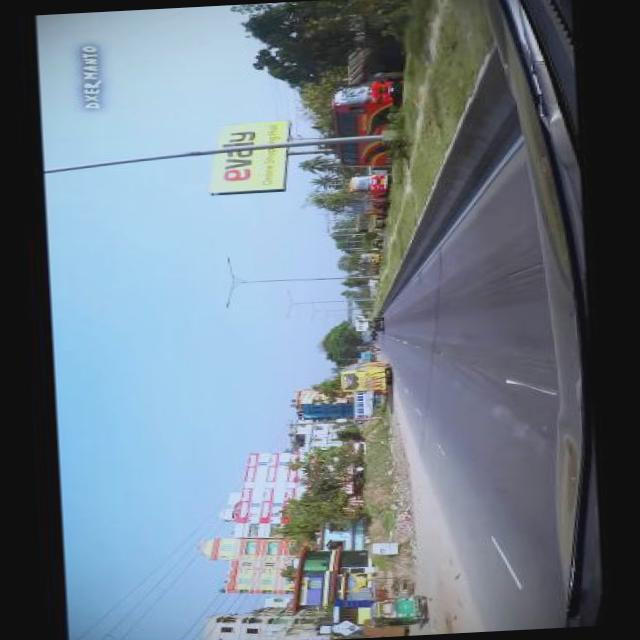bus: (328, 81, 398, 169), (348, 174, 389, 217), (336, 361, 388, 394), (350, 392, 374, 427), (352, 214, 383, 236), (357, 253, 380, 270)
motorcycle: (366, 595, 424, 629)
truck: (352, 316, 383, 334)
